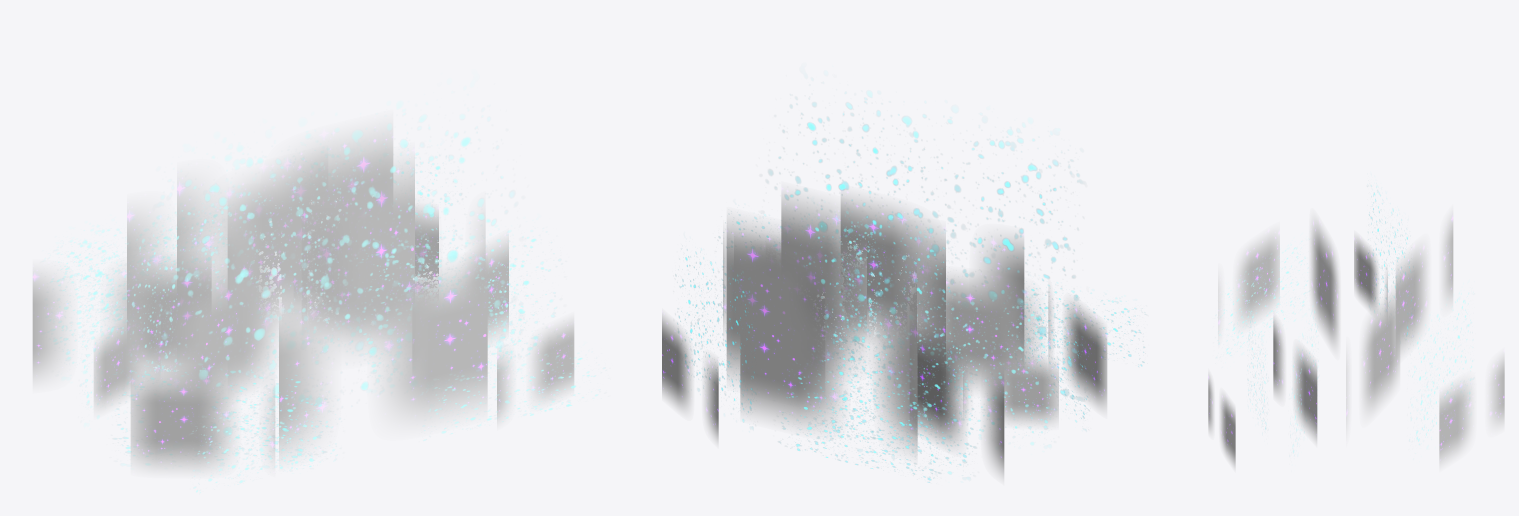
Rendered from effectOpen.glb.
3 views of the same model, side by side, from view 1: azimuth 30°, elevation 25°; view 2: azimuth 150°, elevation 25°; view 3: azimuth 270°, elevation 25° (orthographic). The views are drawn at different scales.
Visible parts, largest first — view 1: Cube.037, Cube.038; view 2: Cube.037, Cube.038; view 3: Cube.037, Cube.038.
Boxes of the visible parts, x1,y1,x2,y2 form: Cube.037: (32, 121, 574, 472); Cube.038: (42, 102, 605, 492); Cube.037: (662, 191, 1106, 477); Cube.038: (675, 91, 1145, 482); Cube.037: (1208, 211, 1504, 467); Cube.038: (1215, 185, 1473, 455).
Bounding box in the file's own units: 0.6484 × 0.4723 × 0.4417.
Materials: 2 (2 with a texture image).
